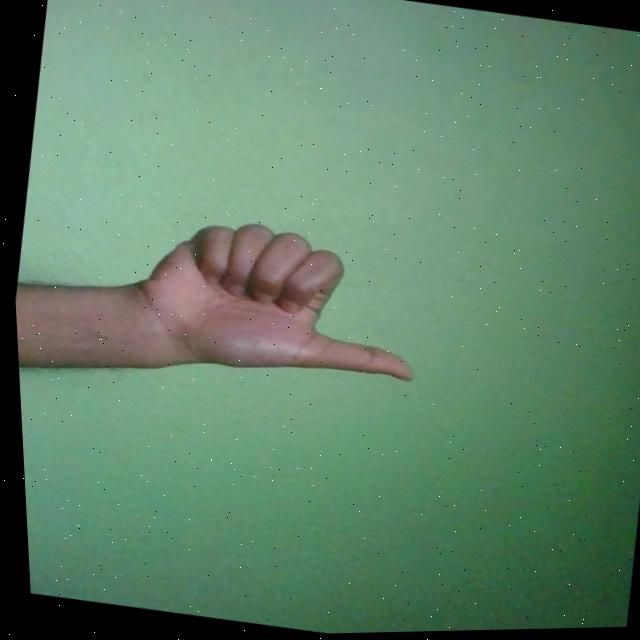Good Job: (115, 204, 430, 399)
